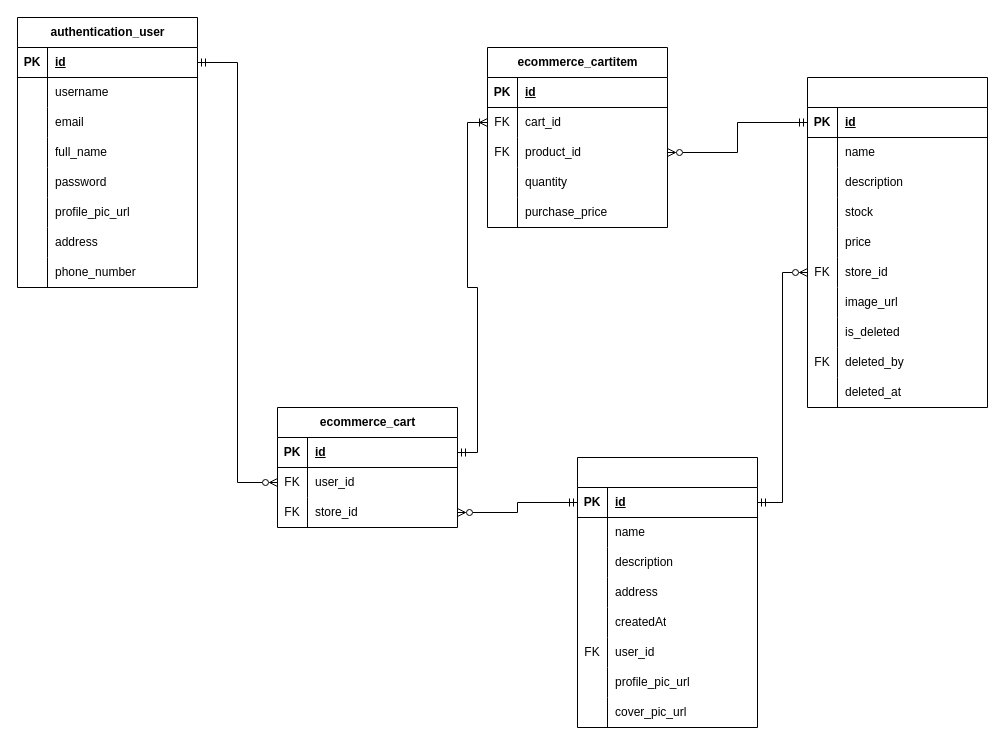
The diagram is 1005 pixels wide and 745 high, and some of its shapes have lost their labels. Each missing label, with the box of its shape:
ecommerce_product: (806, 76, 988, 408)
ecommerce_store: (576, 456, 758, 728)
